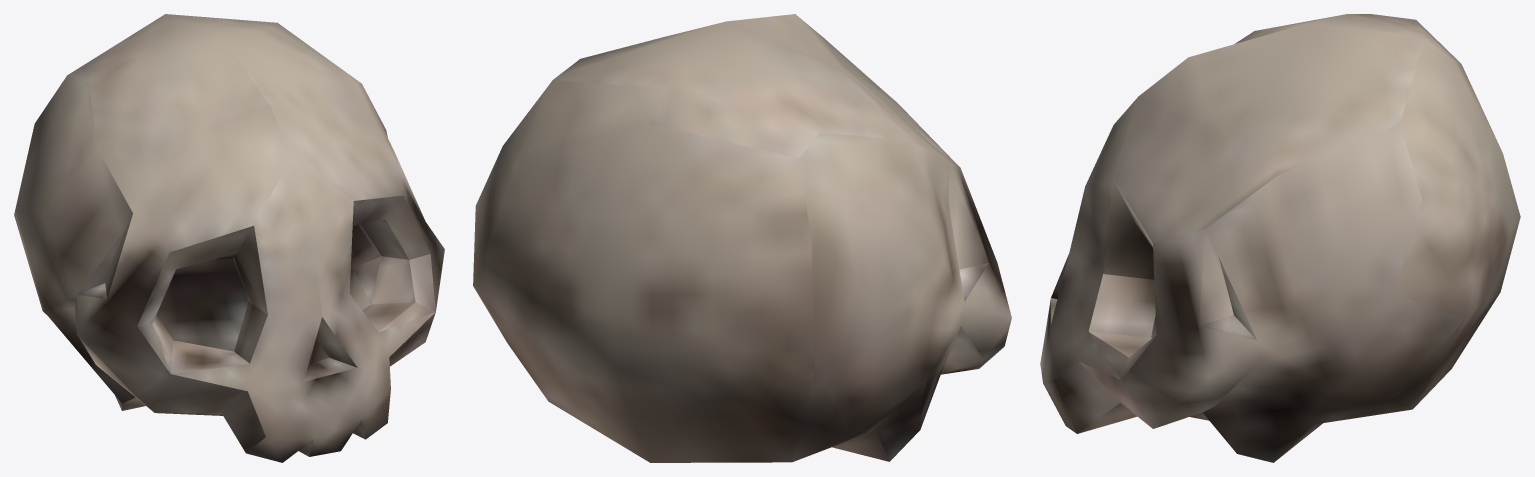
Rendered from env_skull-B1wAvIsr.glb.
3 views of the same model, side by side, from view 1: azimuth 30°, elevation 25°; view 2: azimuth 150°, elevation 25°; view 3: azimuth 270°, elevation 25° (orthographic). The views are drawn at different scales.
Visible parts, largest first — view 1: env_skull_hy_v1; view 2: env_skull_hy_v1; view 3: env_skull_hy_v1.
Boxes of the visible parts, x1=… form: env_skull_hy_v1: x1=14, y1=14, x2=444, y2=462; env_skull_hy_v1: x1=473, y1=14, x2=1011, y2=462; env_skull_hy_v1: x1=1040, y1=14, x2=1520, y2=462.
Bounding box in the file's own units: 0.3007 × 0.2659 × 0.3003.
1 material, 1 textured.
